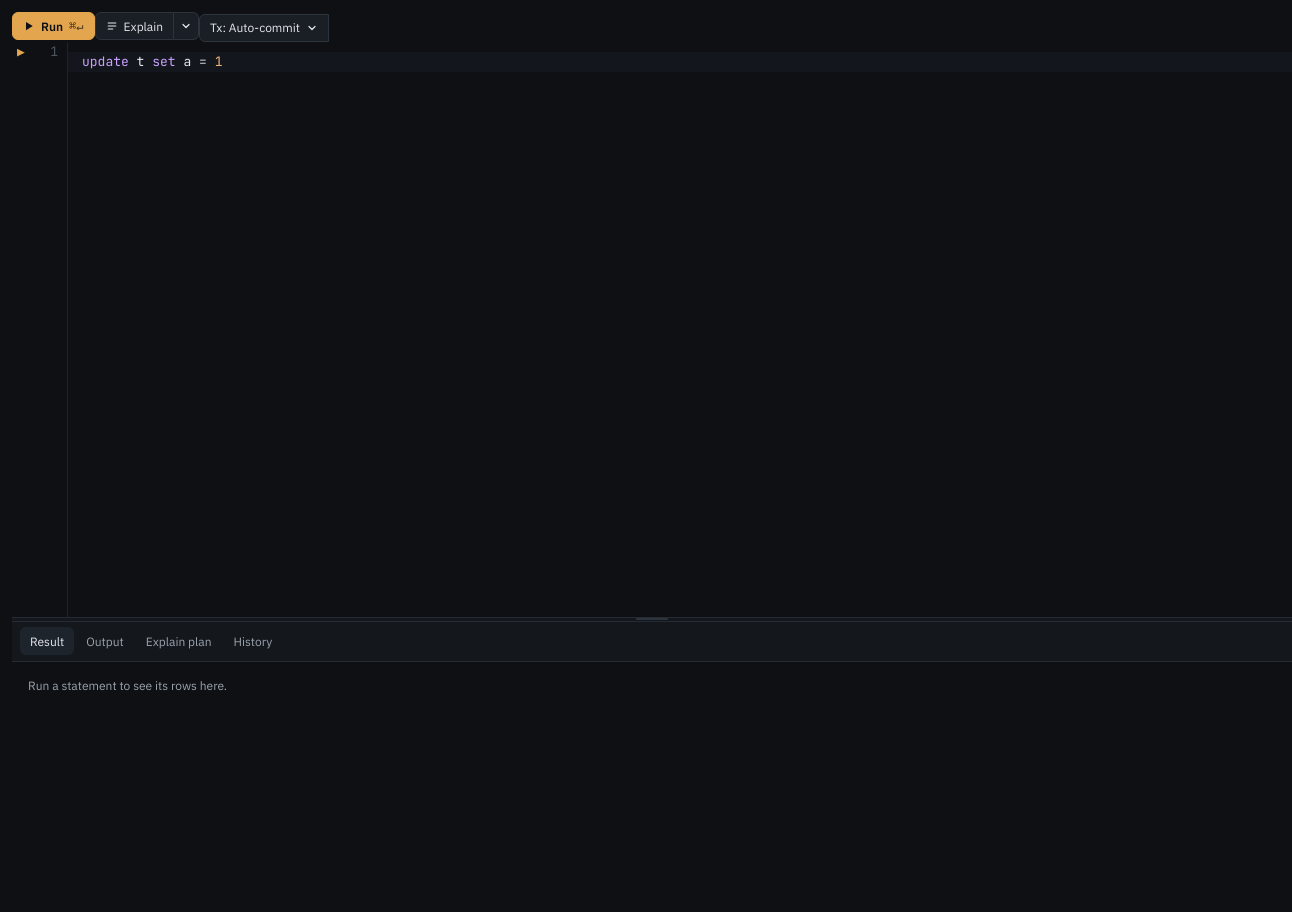
Test: isolation level in the Tx menu (spec: sql-console › Transaction isolation level) › offers no levels when the driver has none, and says nothing on the chip
The width and height of the screenshot is (1292, 912).
Step 1. Click the button "Tx: Auto-commit" → coordinates (264, 28), box [199, 14, 329, 42]
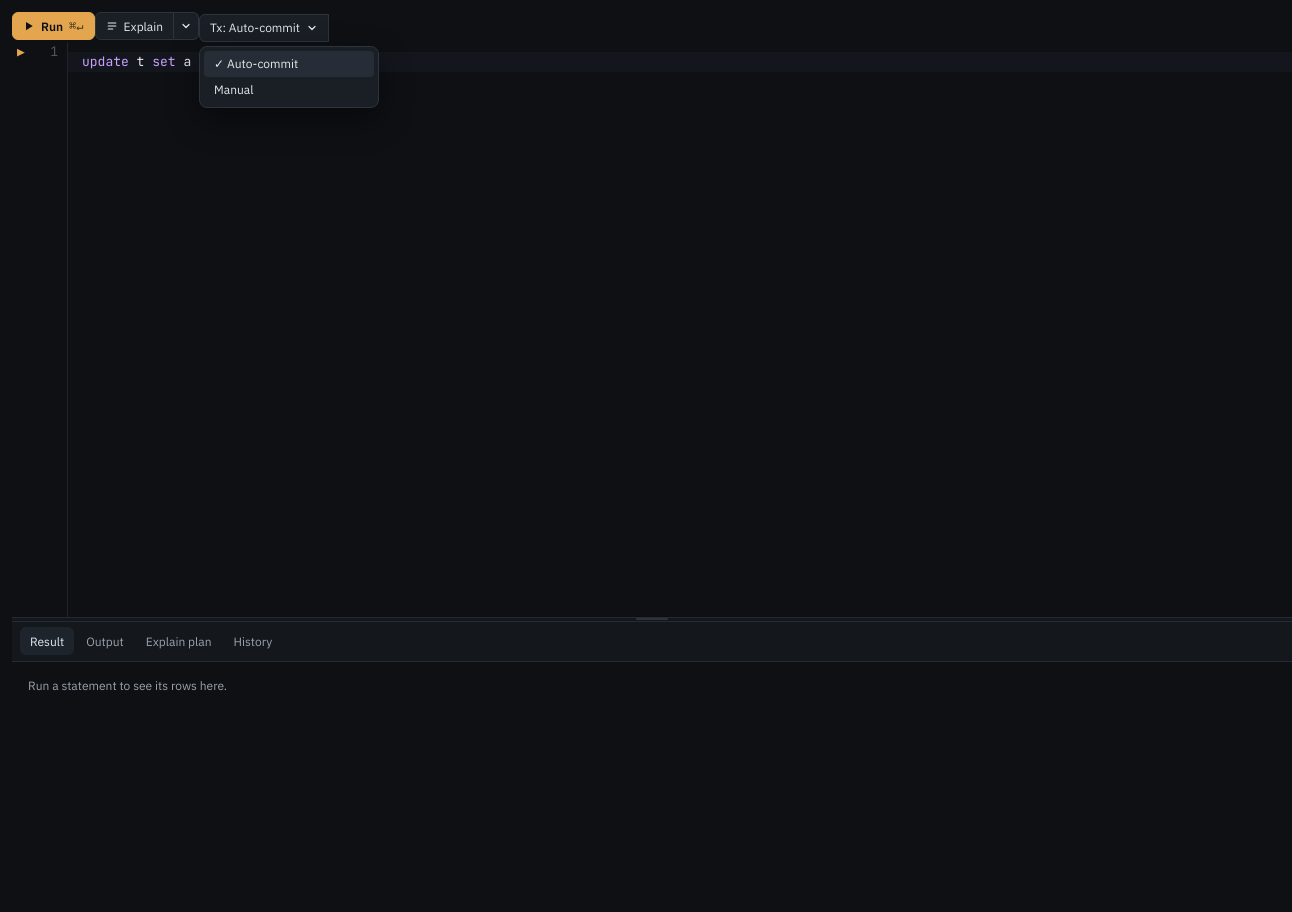
Step 2. Click the menu item "Manual" → coordinates (289, 90), box [204, 76, 374, 102]
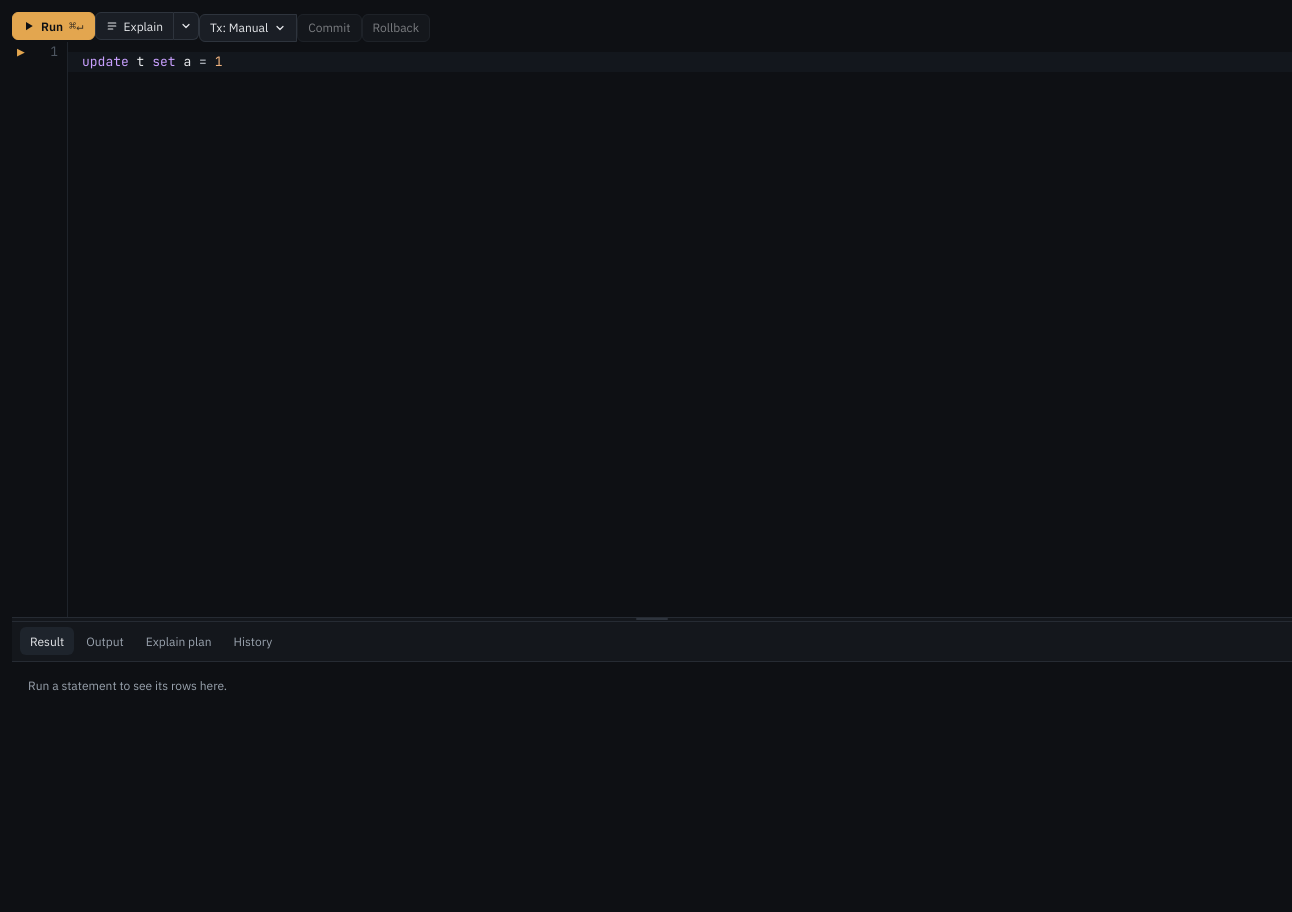
Check: the button "Tx: Manual" is shown
Step 3. Click the button "Tx: Manual" → coordinates (248, 28), box [199, 14, 297, 42]
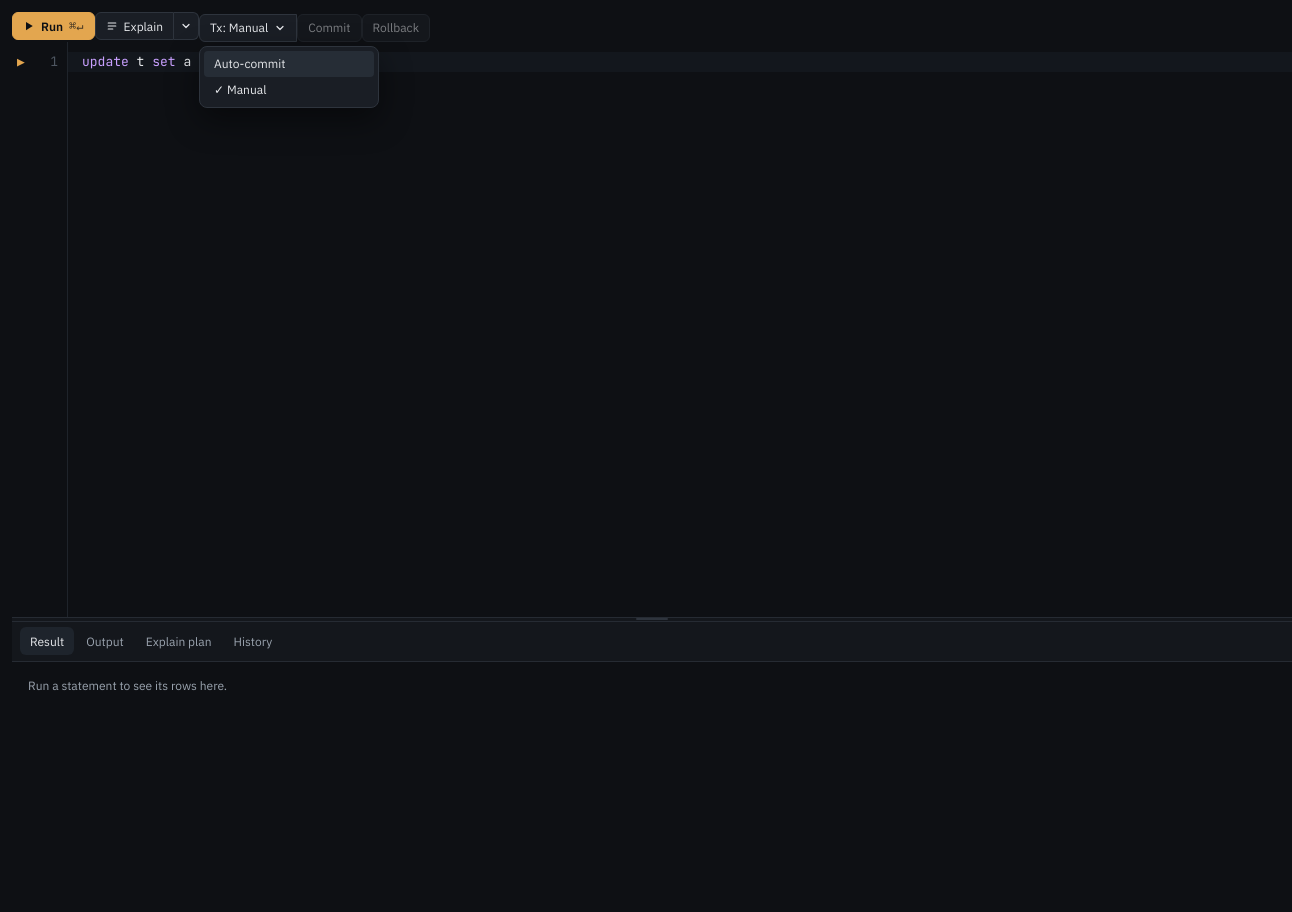
Check: the menu items read "Auto-commit", "✓ Manual", in this order, box [204, 50, 374, 76]; [204, 76, 374, 102]
